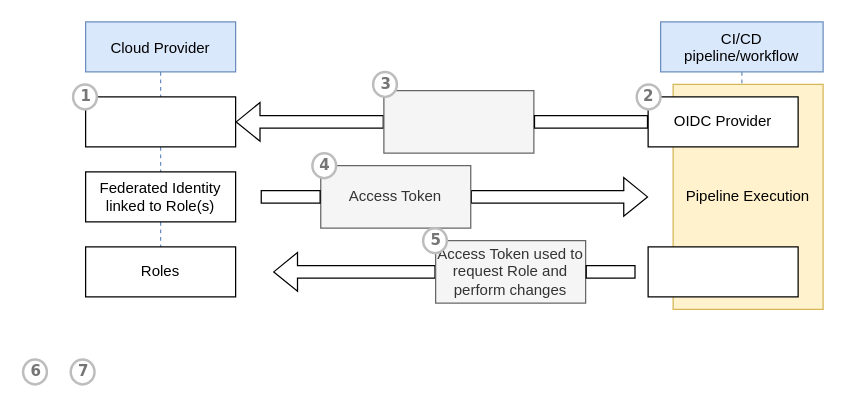
Some shapes in this 845 by 408 pixel diagram are drawn without their labels. The shapes that lost their labels are listed below. From the top down, each one's centre as x and y in pixels, then its label:
the point at 160,121: OIDC Trust
the point at 458,121: JSON Web Token Requesting Cloud Role
the point at 722,271: IaC Execution
